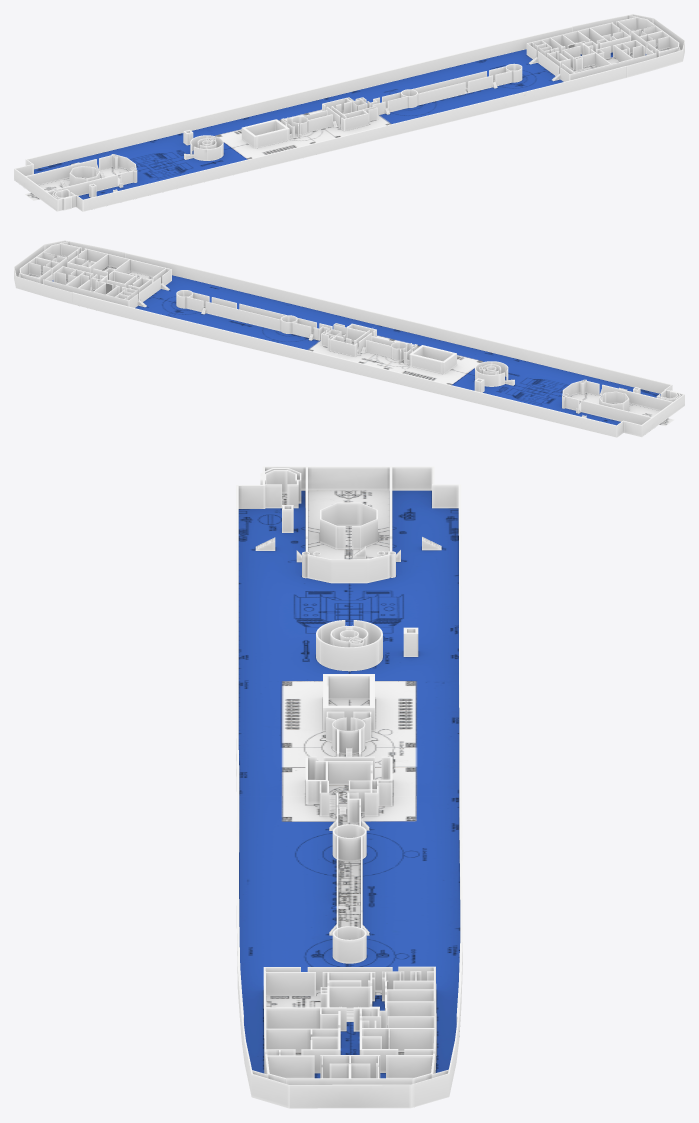
The model's file is shangQiaoLouJiaBan03.fbx.
3 renders of one model, top to bottom at view 1: azimuth 30°, elevation 25°; view 2: azimuth 150°, elevation 25°; view 3: azimuth 270°, elevation 25°, orthographic. The views are drawn at different scales.
Visible parts, largest first — view 1: polySurface13; view 2: polySurface13; view 3: polySurface13.
Boxes of the visible parts, <box> form: polySurface13: <box>14,14,684,211</box>; polySurface13: <box>14,240,684,437</box>; polySurface13: <box>236,466,462,1108</box>.
Bounding box in the file's own units: 20835 × 3195 × 359.
